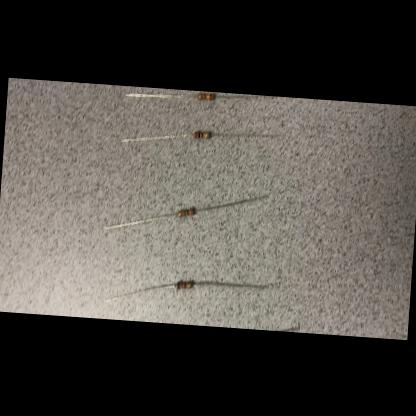resistor: (178, 206, 196, 216), (174, 280, 192, 289), (194, 130, 210, 139), (197, 92, 215, 100)
wire: (195, 189, 268, 216), (104, 279, 174, 306), (105, 207, 177, 233), (122, 128, 194, 146), (127, 89, 197, 100), (194, 280, 269, 290), (212, 129, 278, 140), (216, 92, 262, 100)
